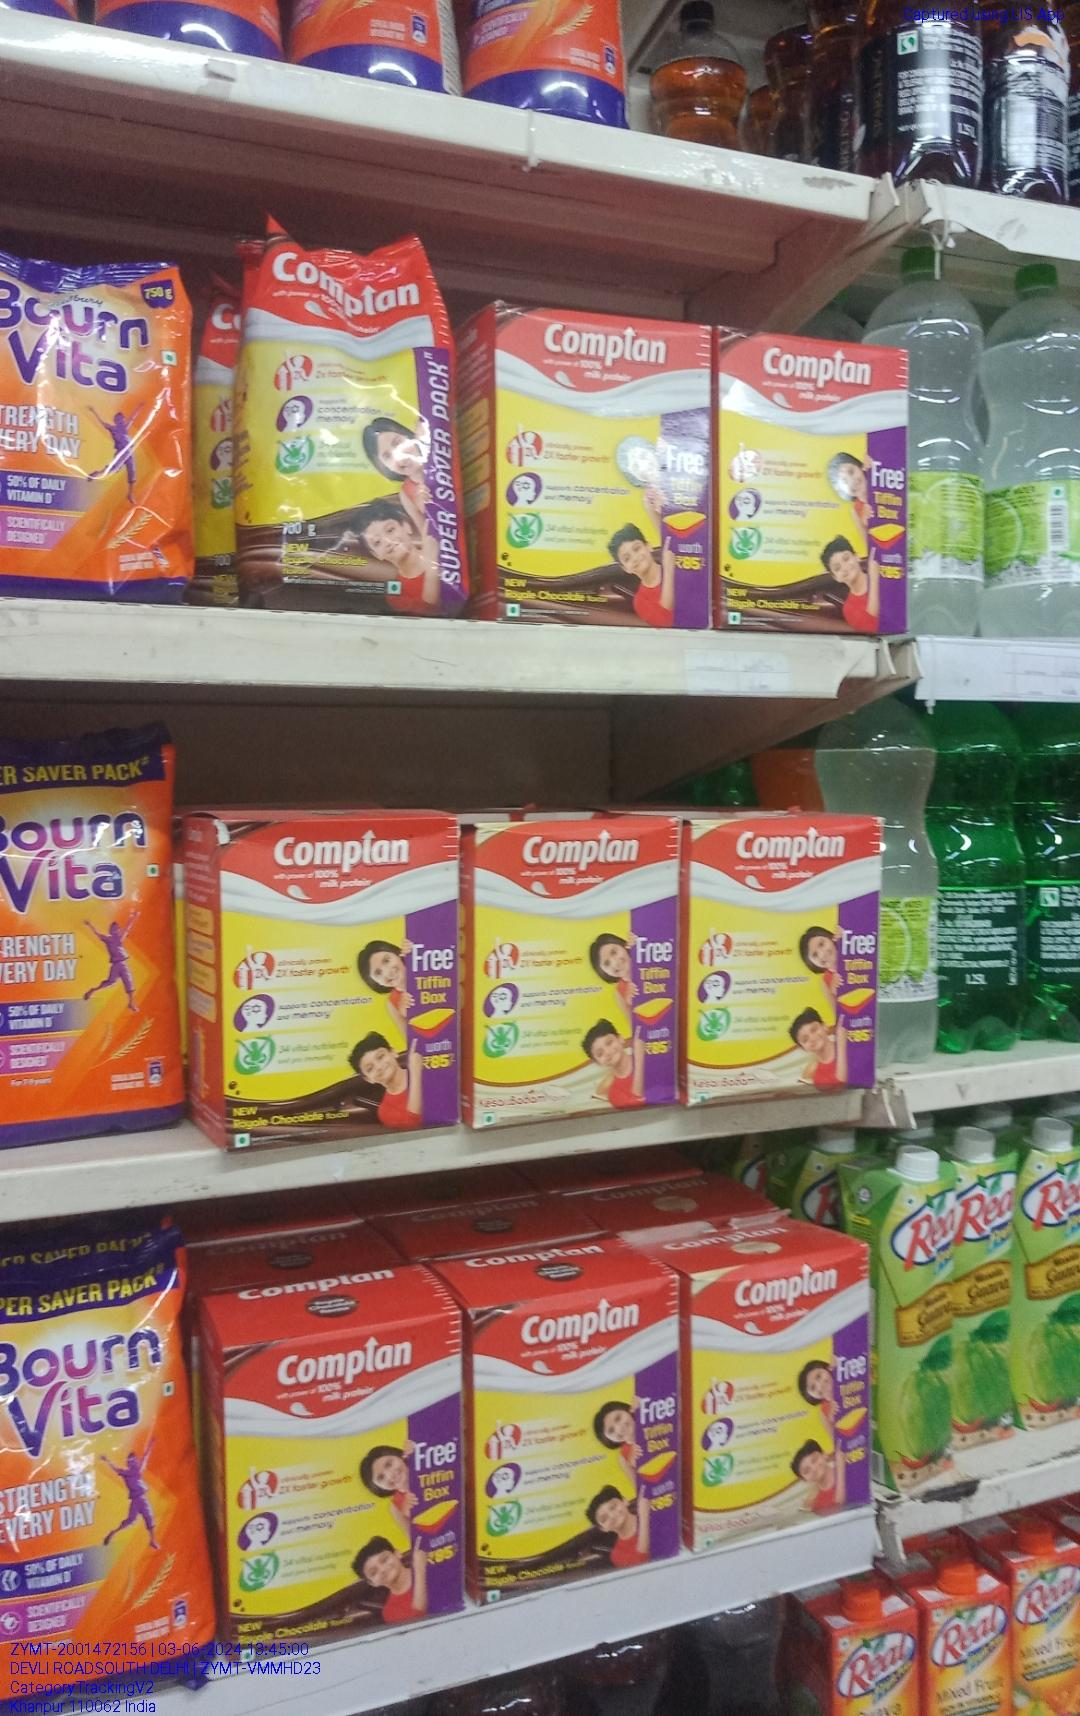BOURN_VITA_750_G_POUCH: (0, 1254, 205, 1689), (0, 722, 190, 1145), (0, 249, 198, 594)
COMPLAN_RC_POUCH_700_GMS_12: (240, 221, 473, 611)
